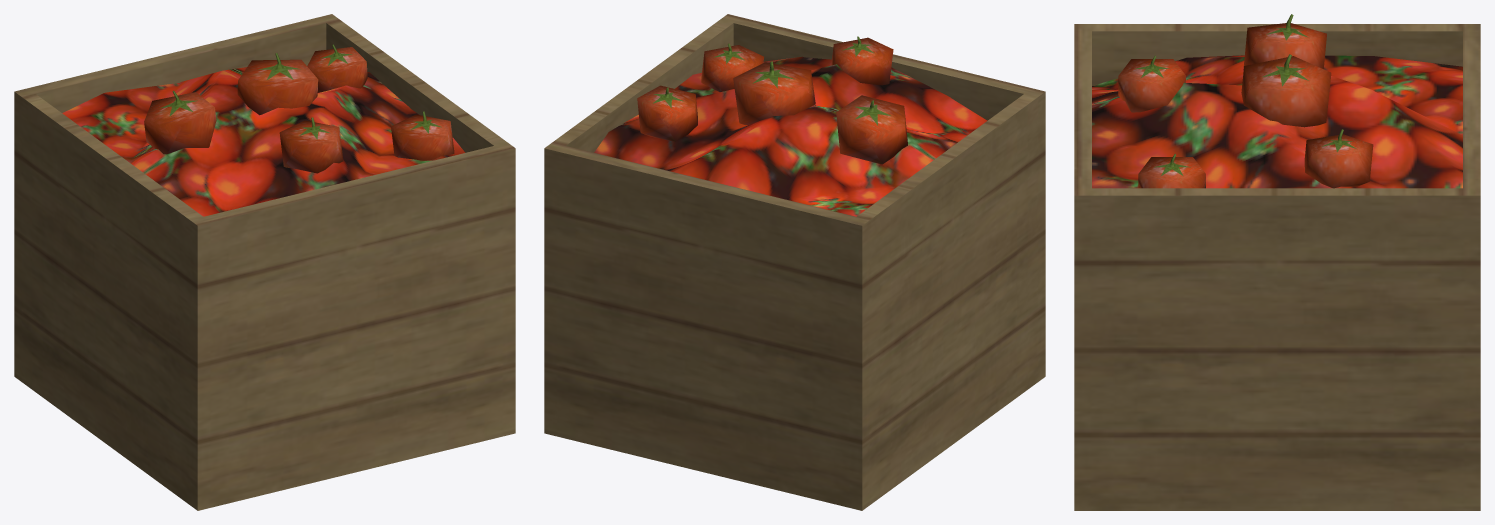
The model's file is crate02.glb.
The picture shows the model from 3 angles, left to right: view 1: azimuth 30°, elevation 25°; view 2: azimuth 150°, elevation 25°; view 3: azimuth 270°, elevation 25°; orthographic projection. The views are drawn at different scales.
Visible parts, largest first — view 1: crate02; view 2: crate02; view 3: crate02.
Part boxes in pixels (left/top/right/bottom): crate02: left=14, top=14, right=515, bottom=510; crate02: left=544, top=14, right=1045, bottom=510; crate02: left=1074, top=14, right=1480, bottom=510.
Bounding box in the file's own units: 0.7 × 0.7231 × 0.7.
2 materials, 2 textured.
